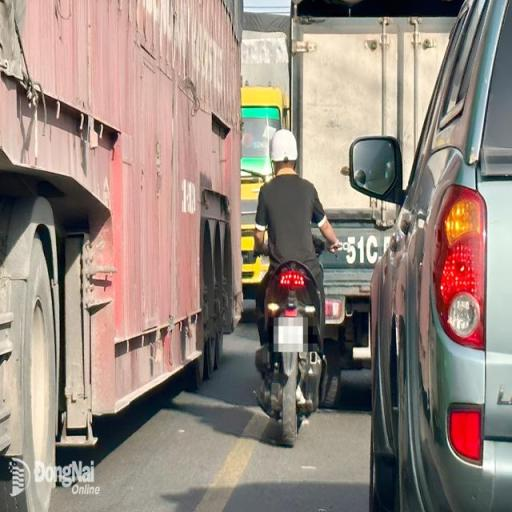with helmet: (262, 126, 312, 172)
